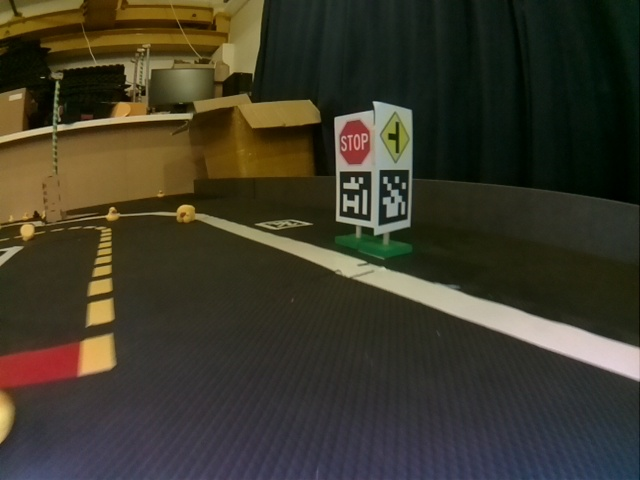Duckie: (177, 204, 194, 223), (21, 224, 35, 241), (105, 208, 119, 221), (157, 190, 166, 199)
Intersection sign: (379, 110, 412, 165)
QR code: (378, 168, 411, 226), (341, 171, 370, 222), (256, 219, 311, 229)
Stop sign: (337, 120, 370, 166)
